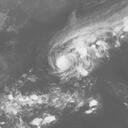cyclone: (49, 39, 91, 82)
